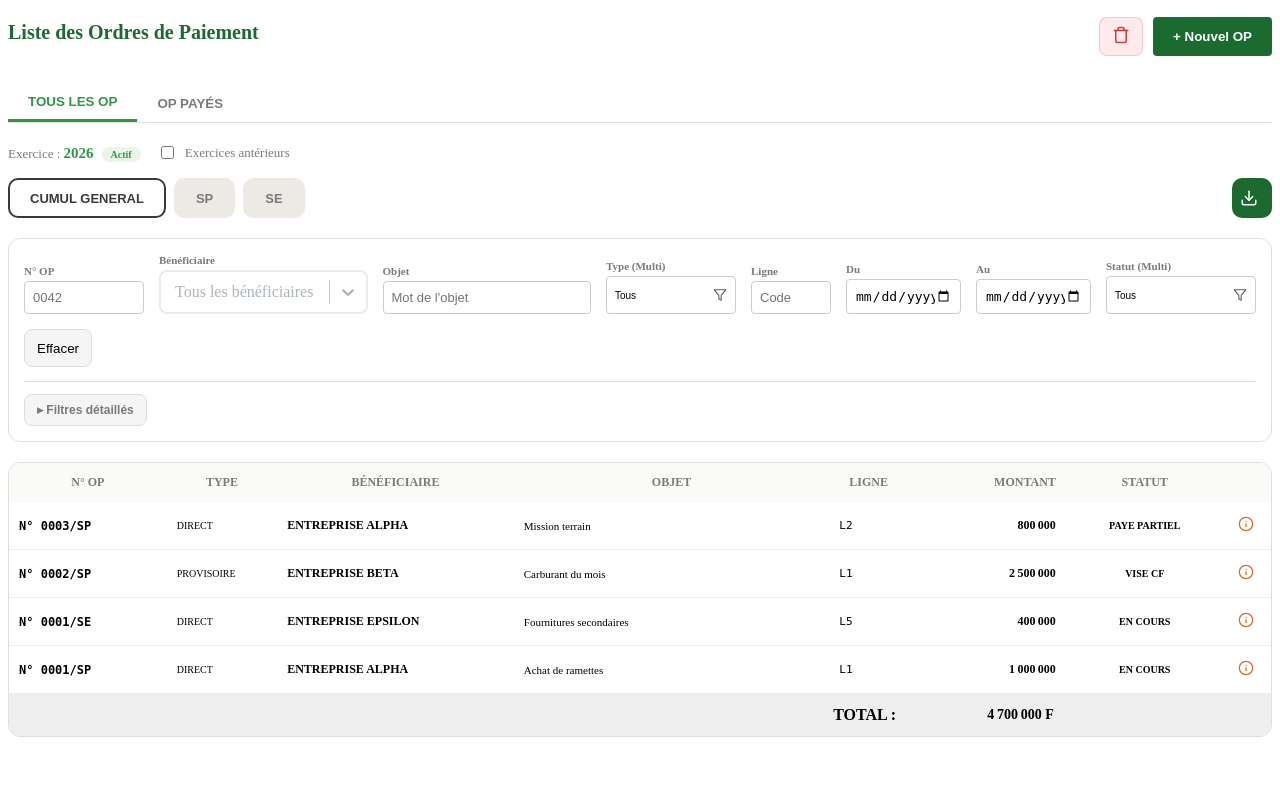
Test case: Liste OP — l'aperçu › une étape non franchie est annoncée « En attente », pas vide
Click the button titled "Suivi détaillé de l'OP N°0001/SP". click: (1246, 670)
box: [1234,656,1258,683]
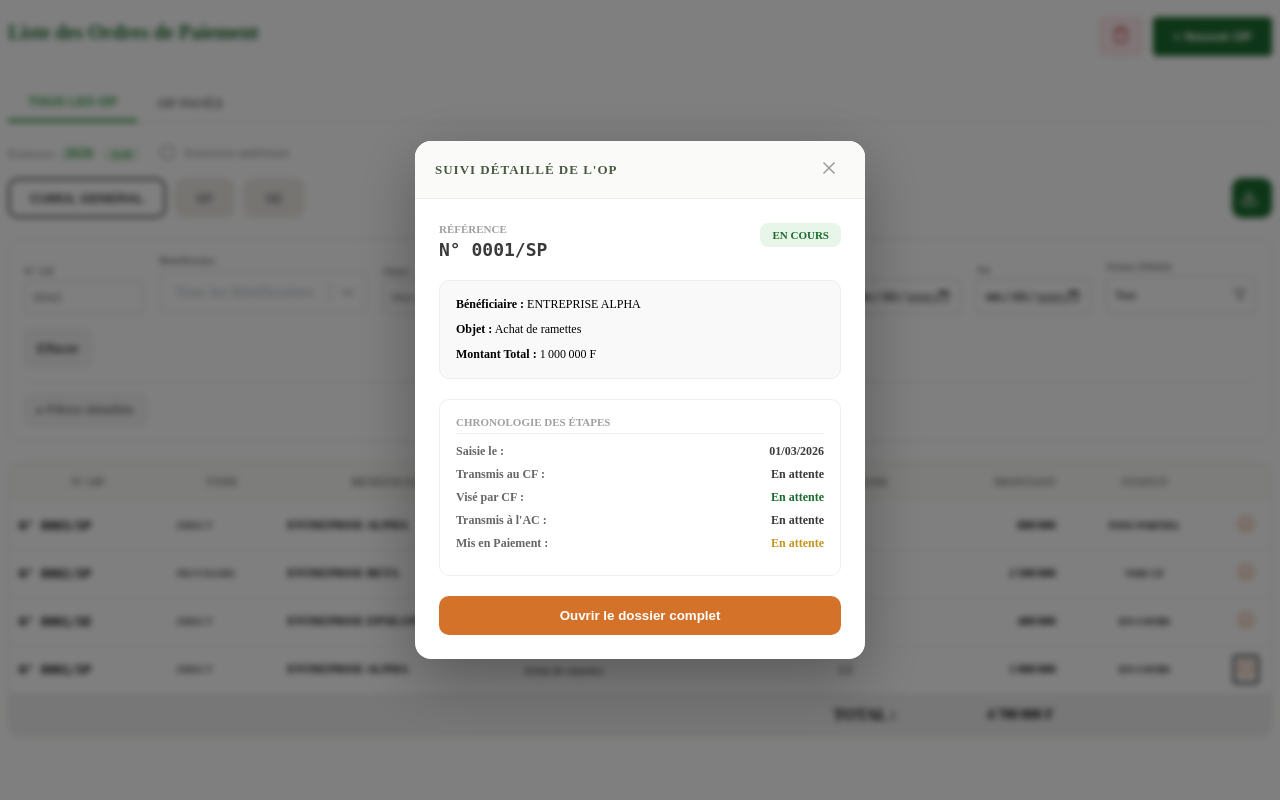
Result: the text "En attente" in the row of "Transmis au CF" is shown at [771,467,824,481]
